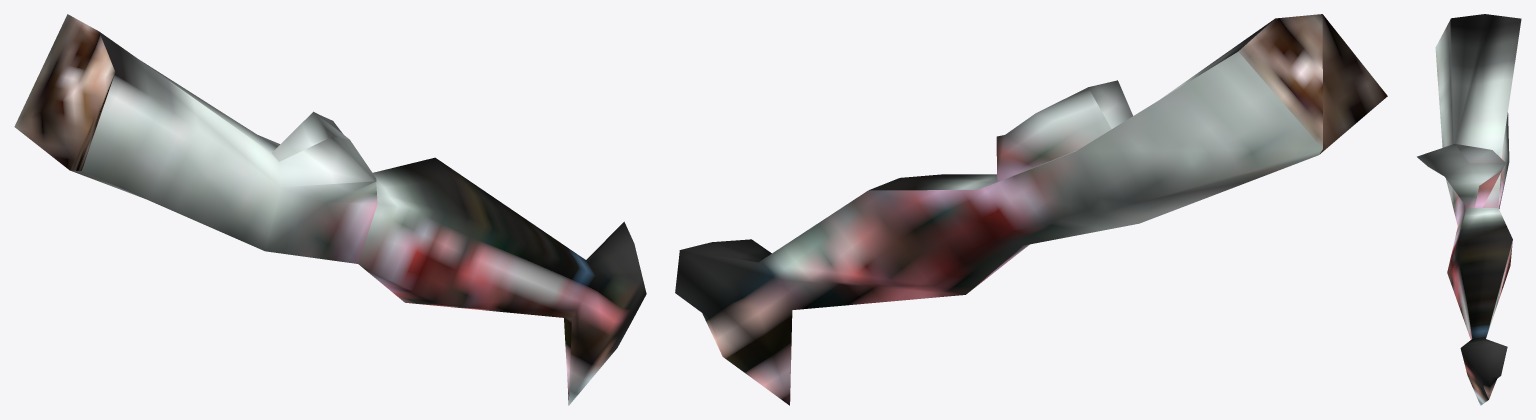
The model's file is ranka.obj.
The picture shows the model from 3 angles, left to right: view 1: azimuth 30°, elevation 25°; view 2: azimuth 150°, elevation 25°; view 3: azimuth 270°, elevation 25°; orthographic projection. The views are drawn at different scales.
Parts seen in each view (by area): view 1: ranka; view 2: ranka; view 3: ranka.
Part boxes in pixels (bbox=[...]): ranka: bbox=[14, 14, 646, 405]; ranka: bbox=[675, 14, 1387, 405]; ranka: bbox=[1417, 14, 1521, 405].
Size of the model in its own units: 0.6027 by 0.4498 by 0.1604.
1 material, 1 textured.
